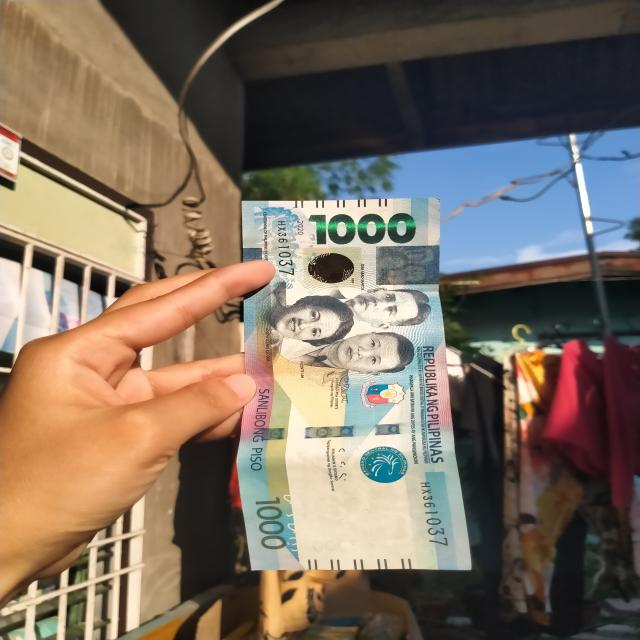security_thread: (239, 422, 452, 444)
see_through_mark: (280, 492, 304, 553)
serial_number: (417, 477, 452, 553), (266, 212, 306, 275)
watermark: (302, 482, 420, 552)
